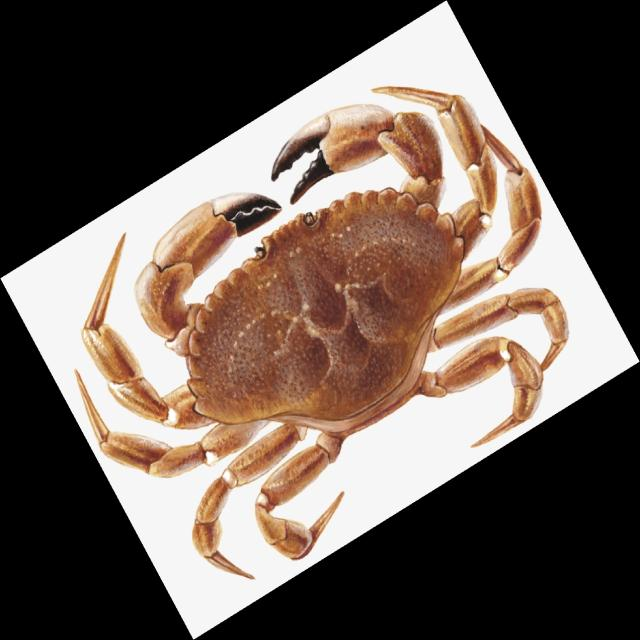Native Jonah crab: (77, 87, 568, 579)
